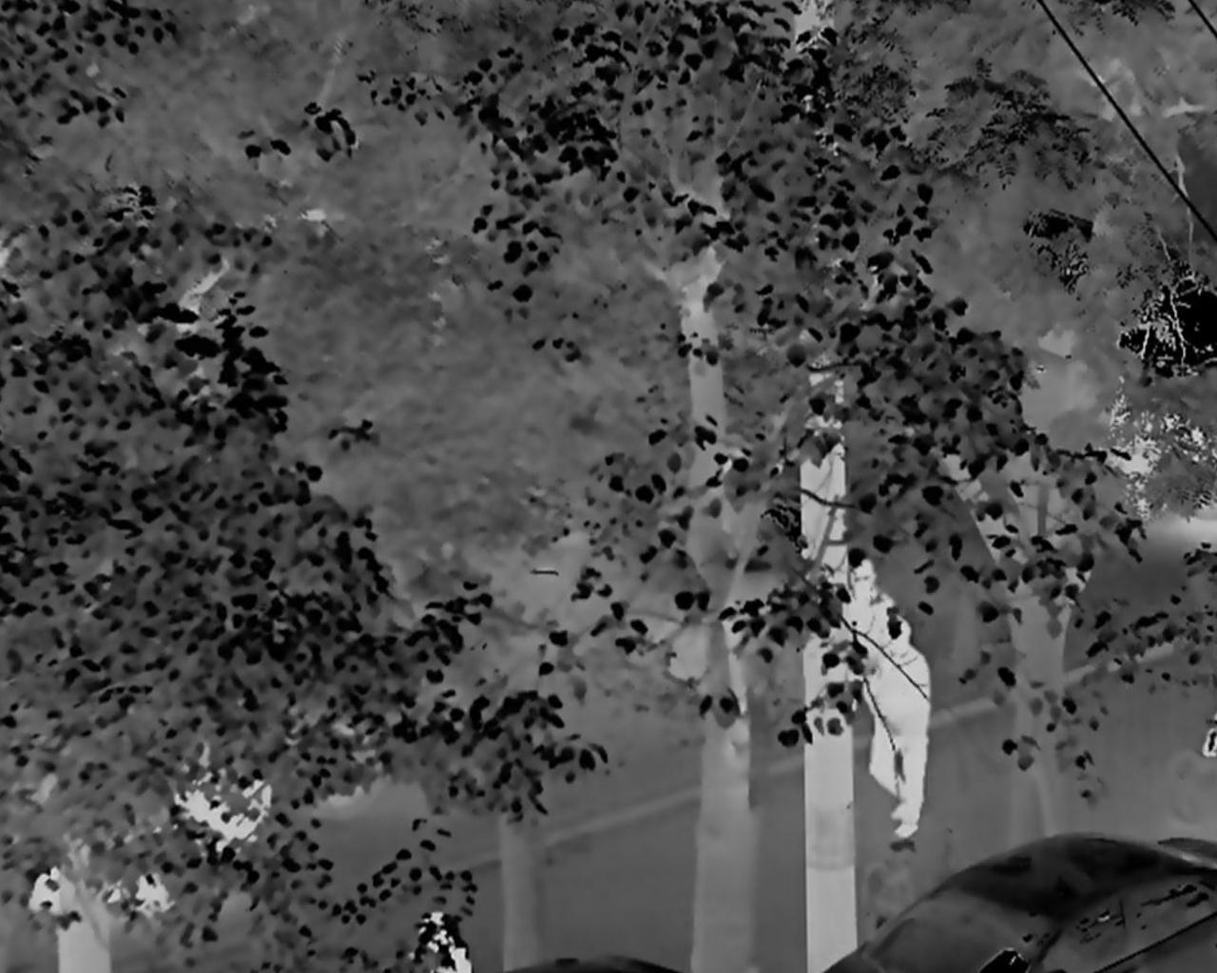person: (868, 617, 930, 847), (835, 553, 892, 711)
